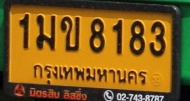num1: (17, 12, 31, 50)
txt02: (59, 14, 81, 52)
txt28: (34, 13, 56, 52)
